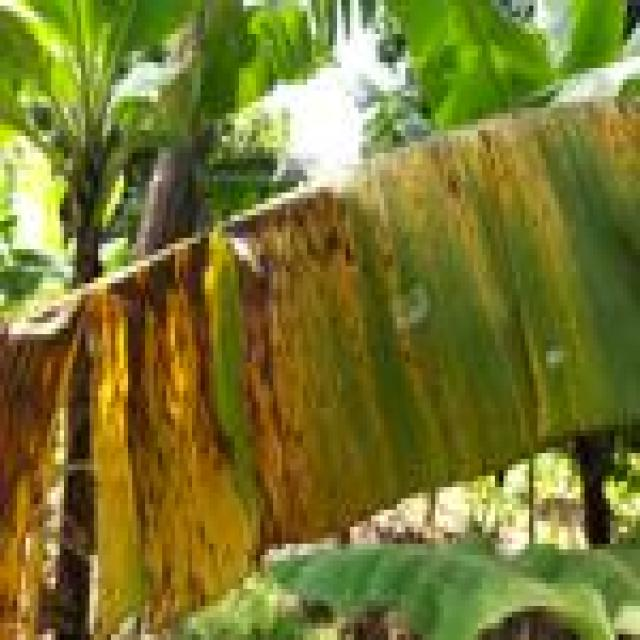Early_rust: (0, 102, 640, 610)
